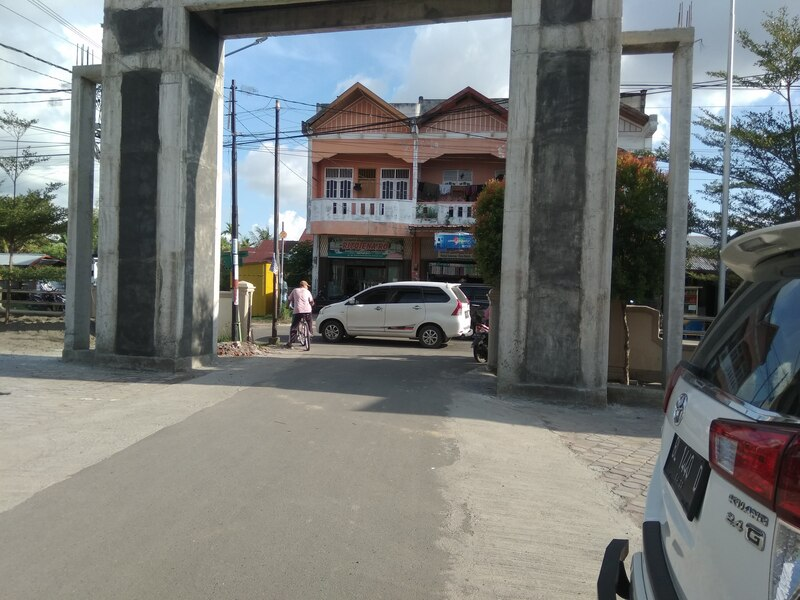bike: (284, 299, 320, 355)
car: (591, 214, 800, 597), (313, 275, 476, 353)
